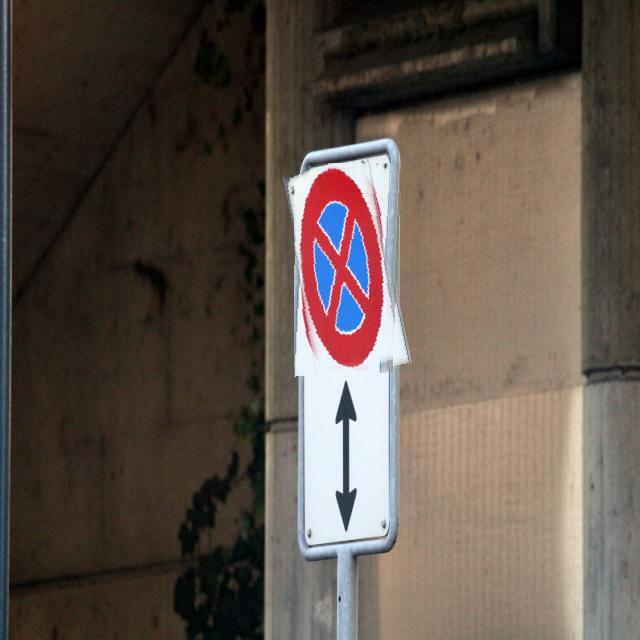no stopping: (294, 163, 402, 377)
